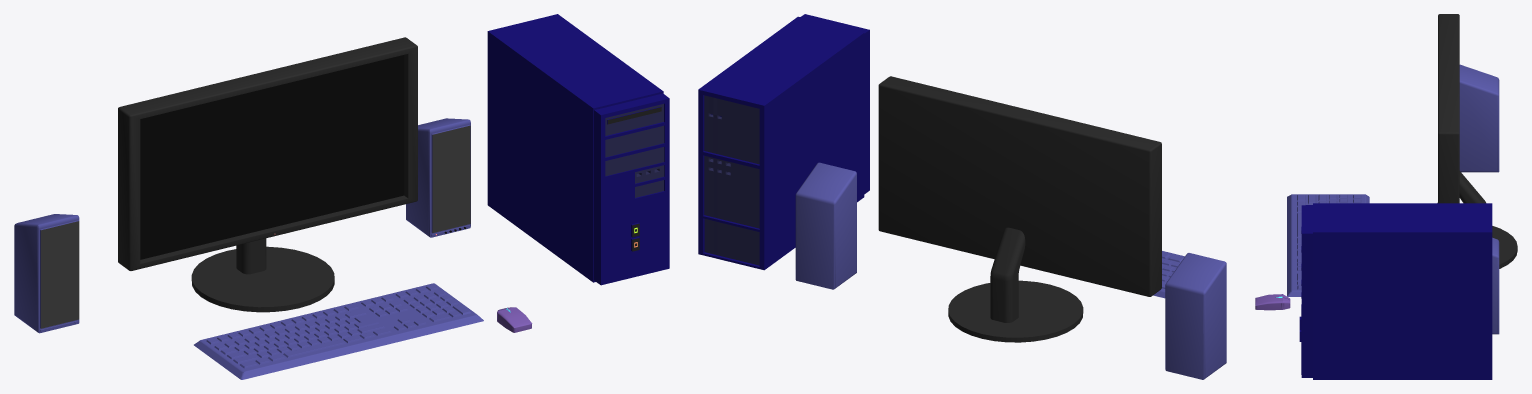
Rendered from computer.glb.
The picture shows the model from 3 angles, left to right: view 1: azimuth 30°, elevation 25°; view 2: azimuth 150°, elevation 25°; view 3: azimuth 270°, elevation 25°; orthographic projection. The views are drawn at different scales.
Parts seen in each view (by area): view 1: Sphere.003_11, Cube_9, Plane.005_10, Cylinder.001_8, Cylinder_7, Cube.002_1; view 2: Sphere.003_11, Cube_9, Cylinder.001_8, Cylinder_7, Plane.005_10; view 3: Cube_9, Sphere.003_11, Cylinder.001_8, Plane.005_10, Cylinder_7, Cube.002_1.
Part boxes in pixels (x1,y1,x2,y2): Sphere.003_11: (118,37,417,312); Cube_9: (487,14,669,285); Plane.005_10: (194,283,483,379); Cylinder.001_8: (14,214,79,333); Cylinder_7: (406,118,470,237); Cube.002_1: (497,307,532,332); Sphere.003_11: (878,76,1161,342); Cube_9: (698,14,869,270); Cylinder.001_8: (1165,253,1226,379); Cylinder_7: (795,162,856,289); Plane.005_10: (1153,251,1184,298); Cube_9: (1299,203,1492,379); Sphere.003_11: (1437,14,1517,268); Cylinder.001_8: (1459,64,1499,172); Plane.005_10: (1287,194,1369,296); Cylinder_7: (1492,237,1499,334); Cube.002_1: (1255,294,1290,310).
Bounding box in the file's own units: 10.38 × 3.84 × 5.14.
